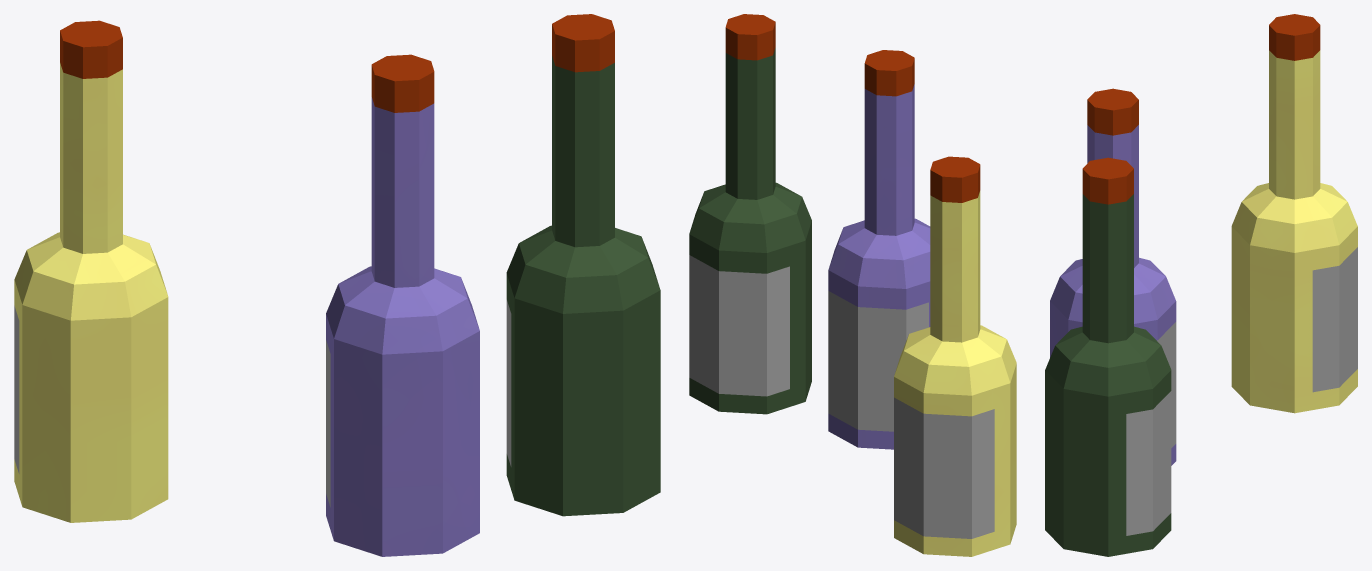
File: bottle_2.fbx
3 renders of one model, left to right at view 1: azimuth 30°, elevation 25°; view 2: azimuth 150°, elevation 25°; view 3: azimuth 270°, elevation 25°, orthographic. The views are drawn at different scales.
Visible parts, largest first — view 1: bottle_2; view 2: bottle_2; view 3: bottle_2.
Boxes of the visible parts, x1,y1,x2,y2 form: bottle_2: (14, 14, 660, 556); bottle_2: (689, 14, 1016, 556); bottle_2: (1045, 14, 1357, 556).
Size of the model in its own units: 15.5 by 13.24 by 10.33.
